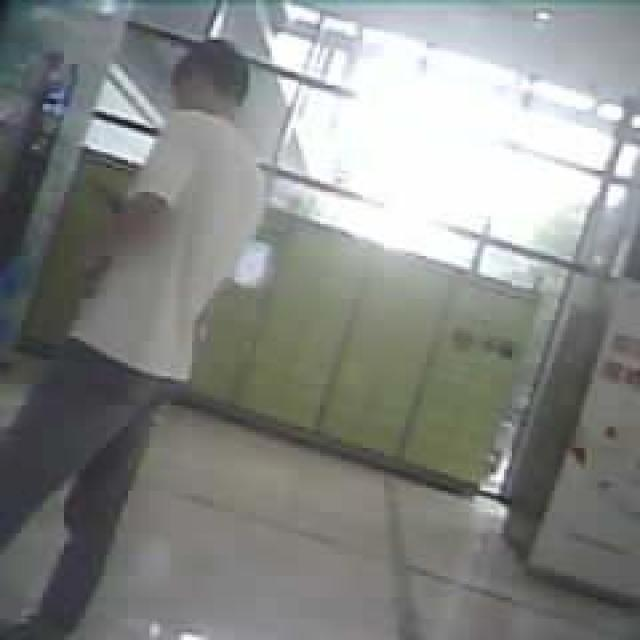person: (0, 39, 267, 638)
